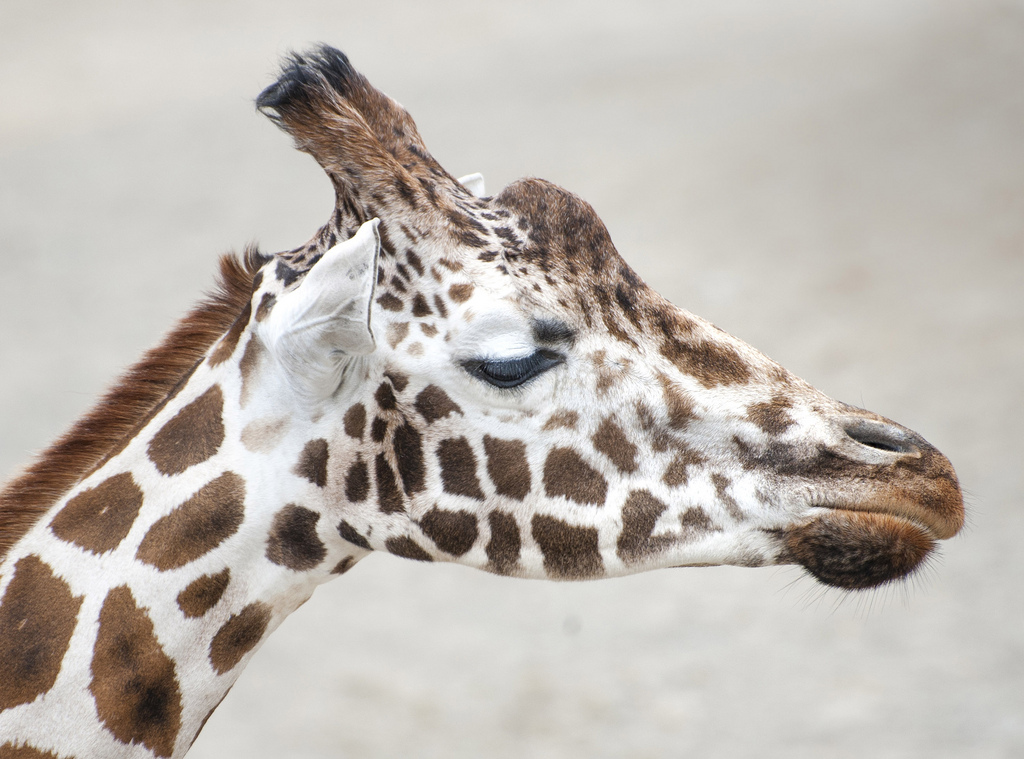giraffe: (68, 49, 983, 646)
